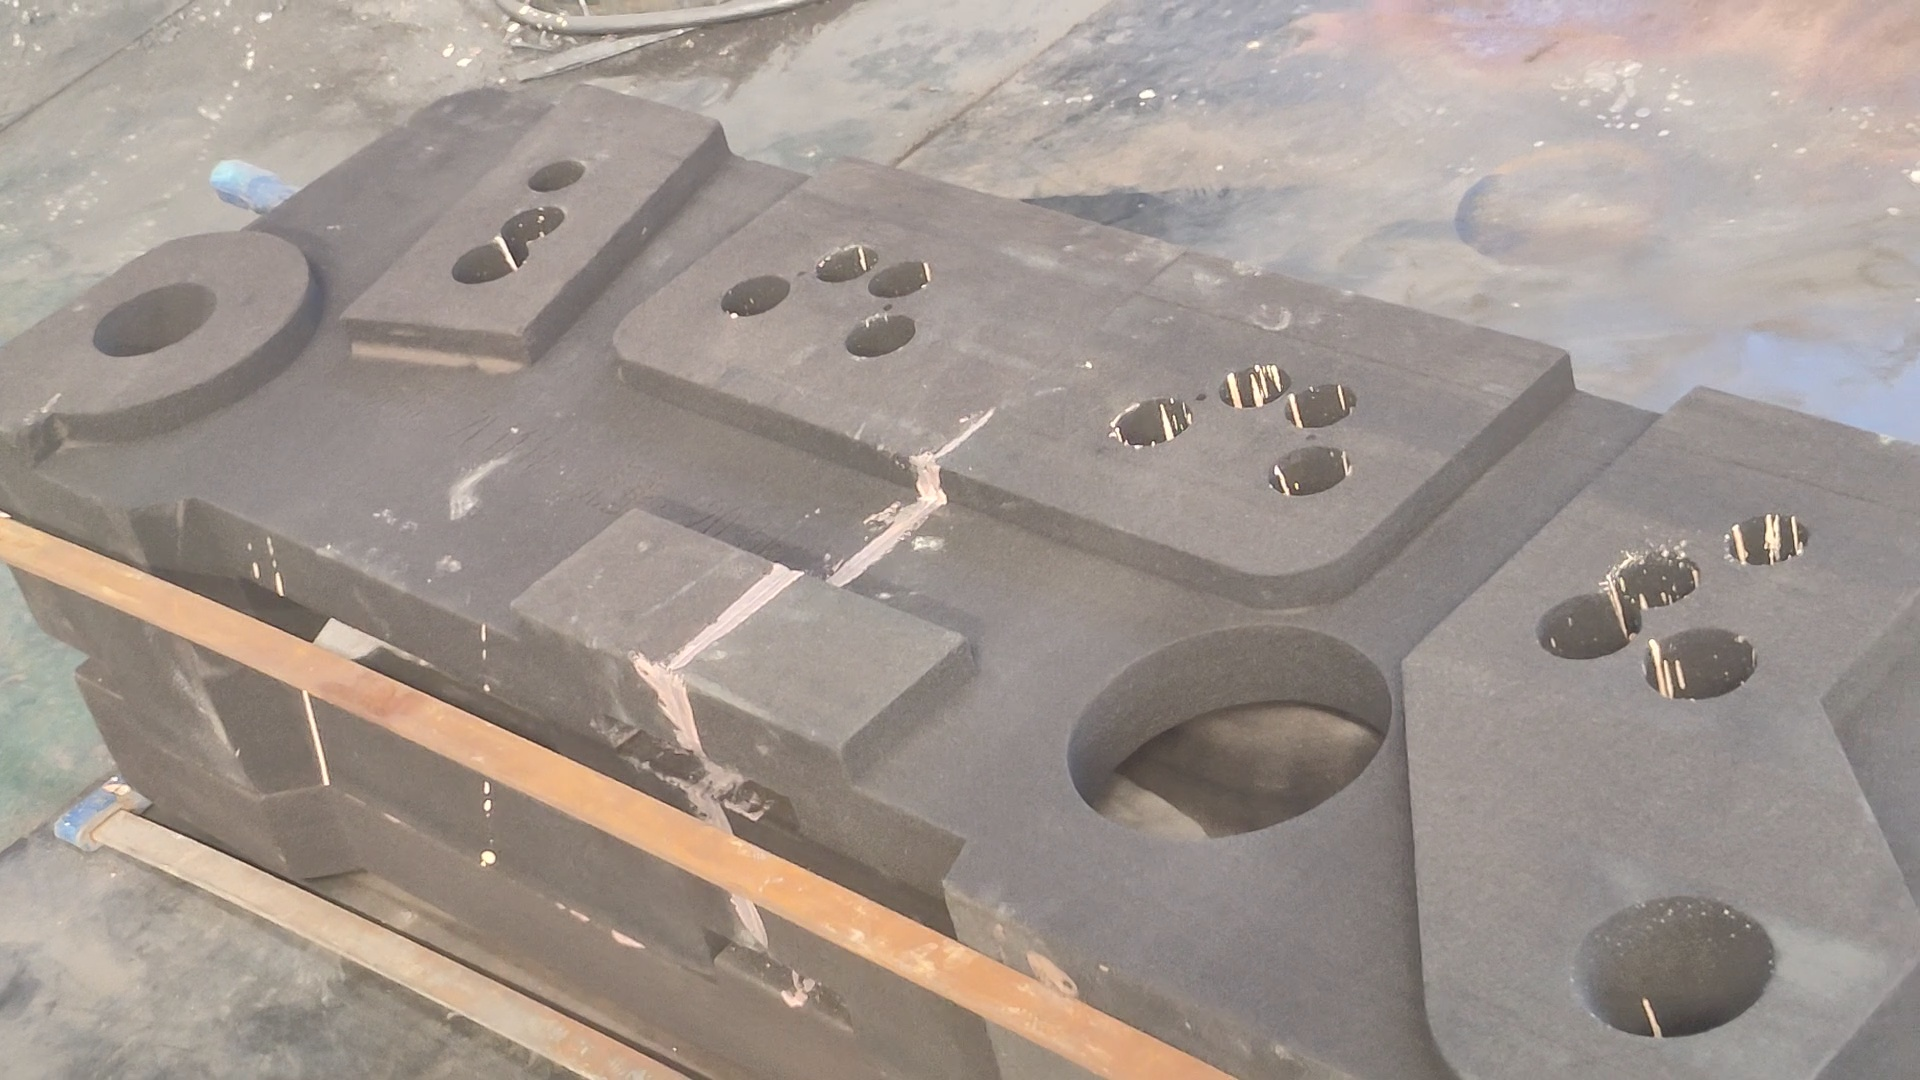pouring hole: (1569, 897, 1783, 1039), (94, 282, 219, 357)
